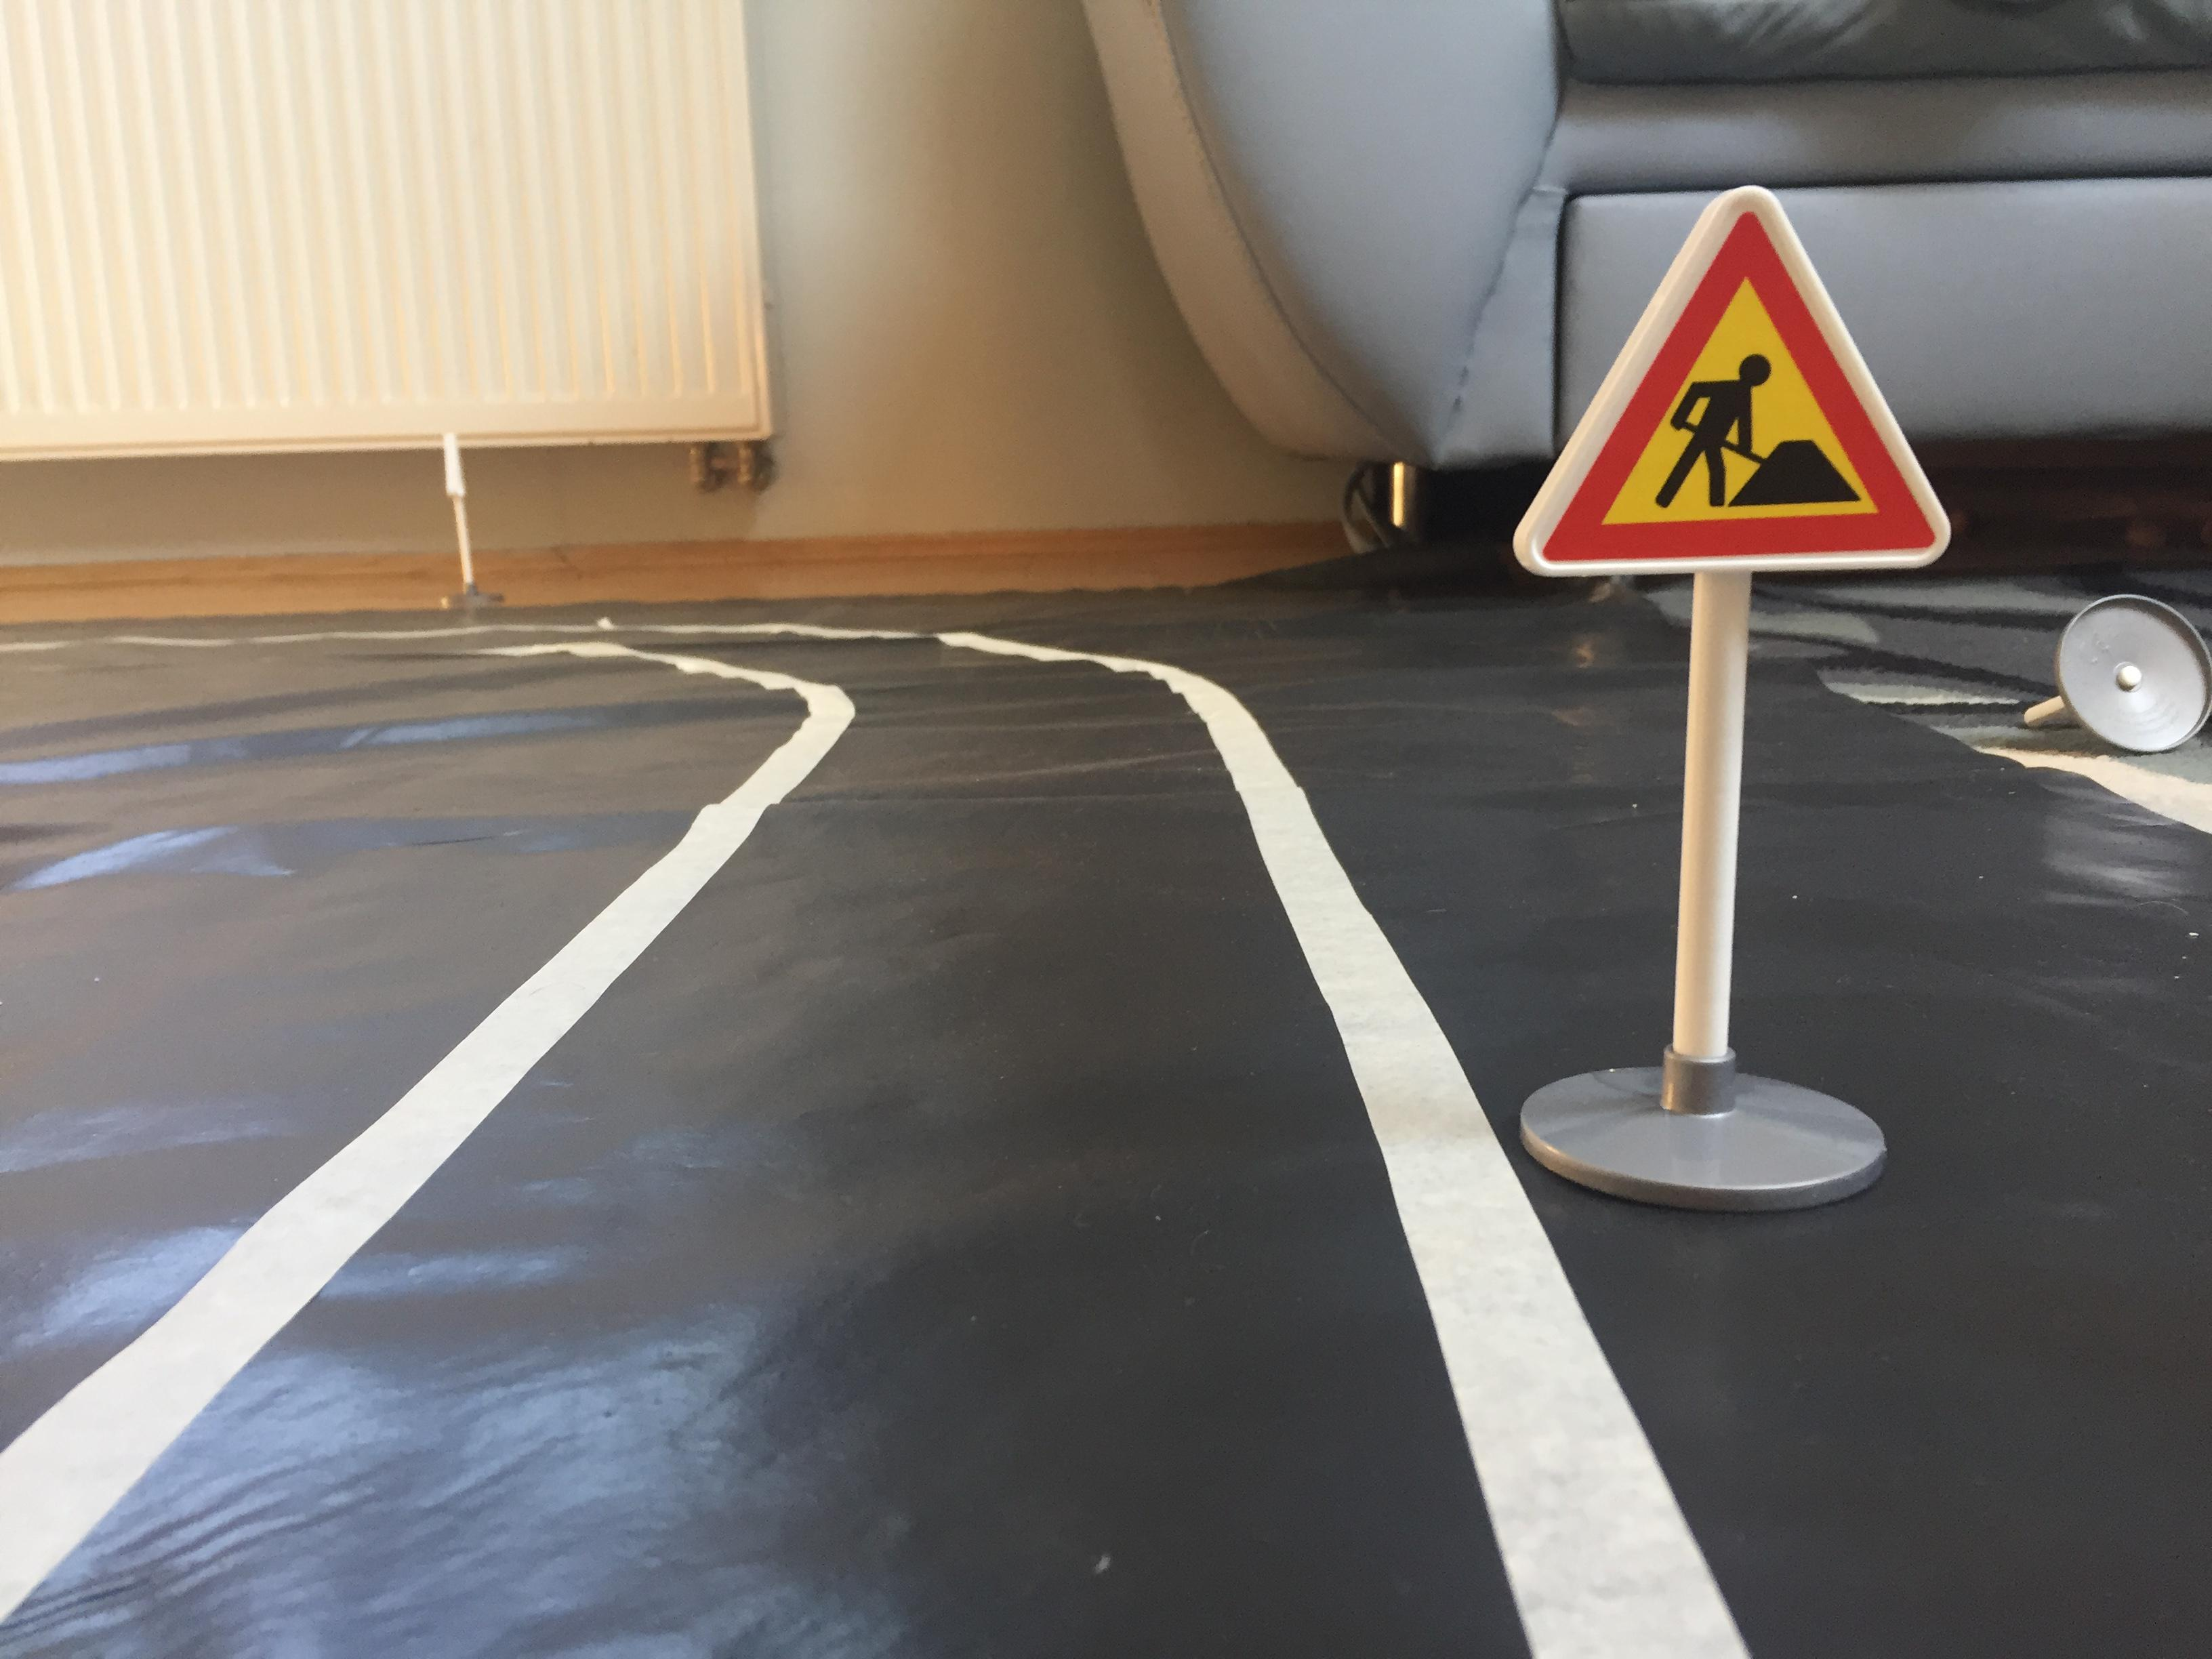work: (1503, 159, 1973, 594)
